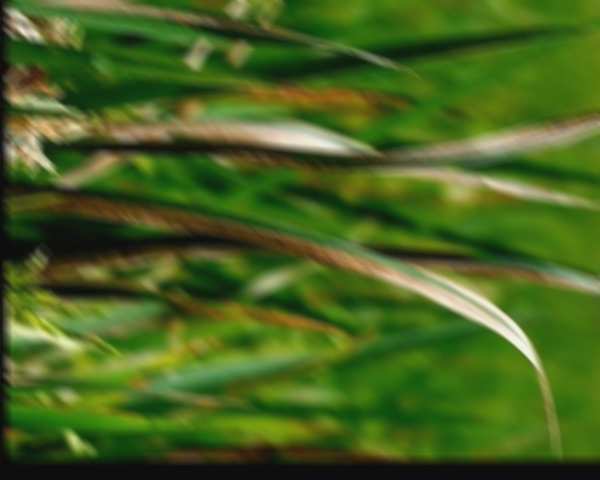Leaf_Blast: (58, 191, 446, 306), (372, 110, 600, 188), (28, 0, 292, 37)
